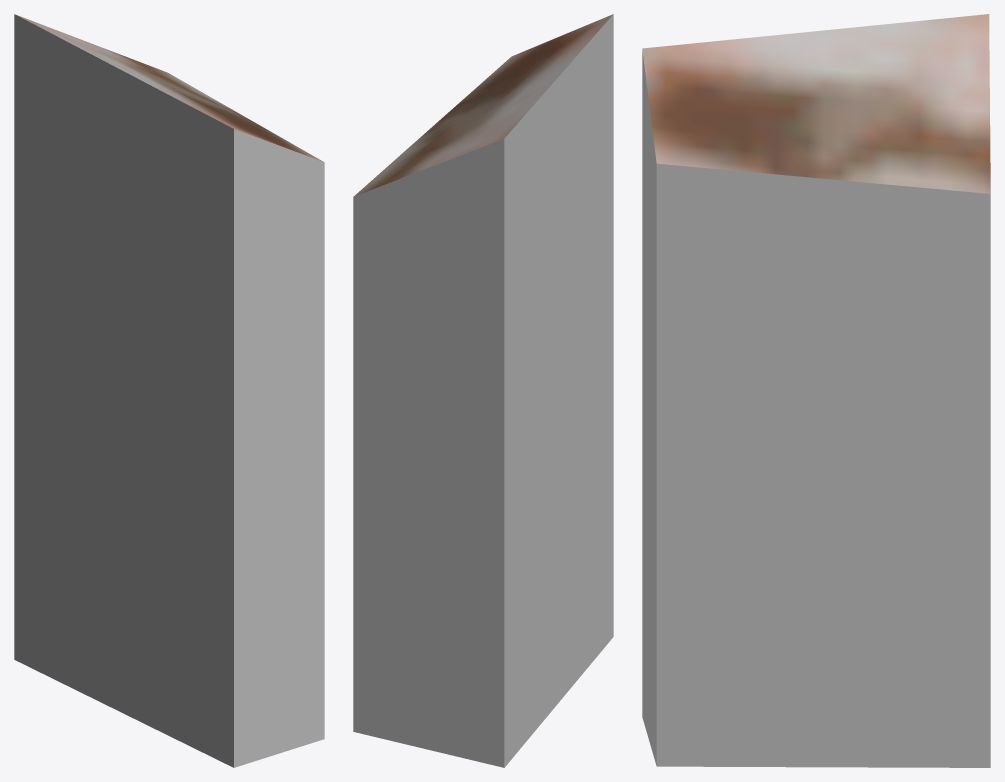
File: DEBW_0010007THvG.gltf
3 renders of one model, left to right at view 1: azimuth 30°, elevation 25°; view 2: azimuth 150°, elevation 25°; view 3: azimuth 270°, elevation 25°, orthographic. The views are drawn at different scales.
Visible parts, largest first — view 1: Z_UP; view 2: Z_UP; view 3: Z_UP.
Boxes of the visible parts, box(x1,y1,x2,y2) form: Z_UP: box(14, 14, 324, 767); Z_UP: box(353, 14, 613, 767); Z_UP: box(642, 14, 990, 767).
Size of the model in its own units: 2.32 by 9.28 by 4.34.
Materials: 2 (1 with a texture image).
